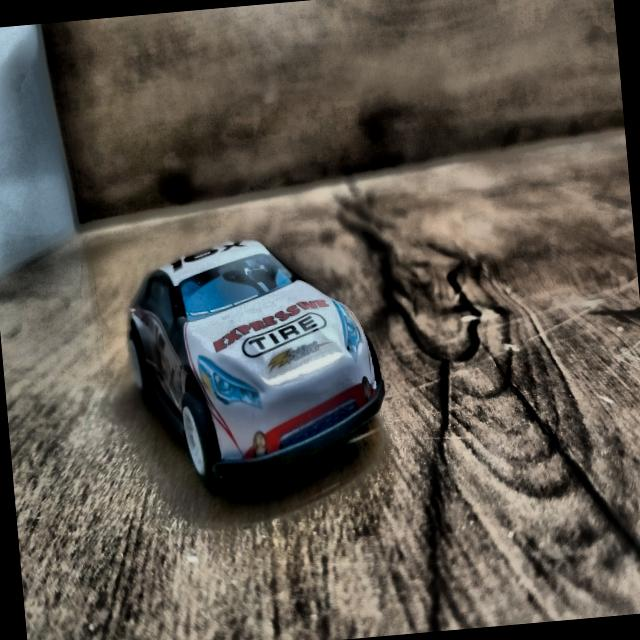Car: (113, 214, 399, 490)
